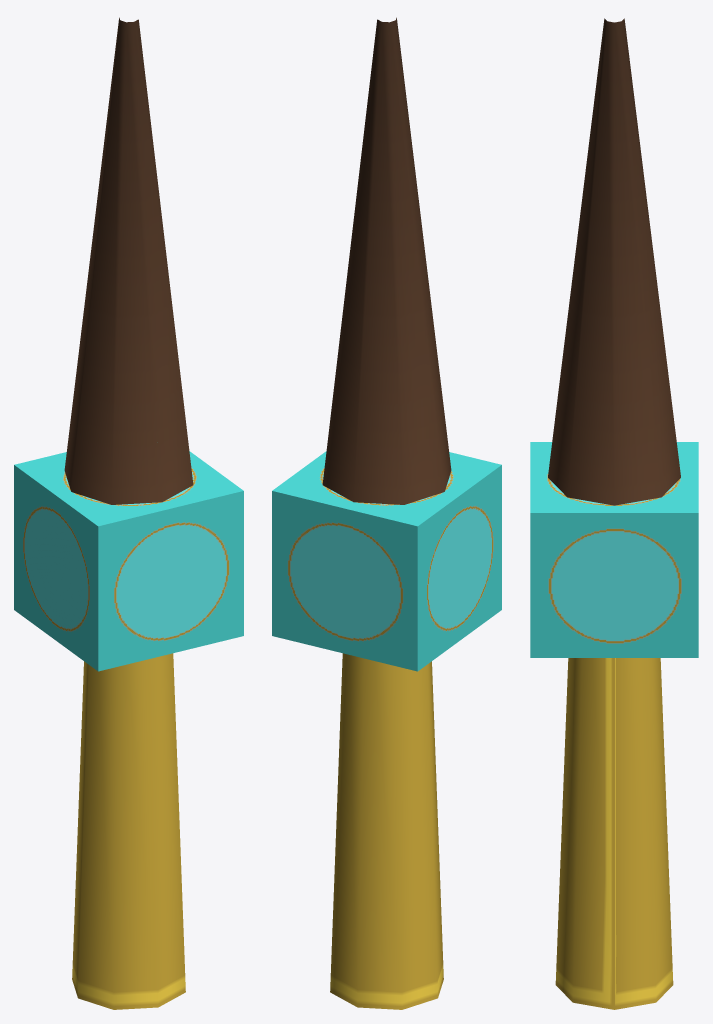
Rendered from weapon_astral_staff.glb.
3 views of the same model, side by side, from view 1: azimuth 30°, elevation 25°; view 2: azimuth 150°, elevation 25°; view 3: azimuth 270°, elevation 25° (orthographic).
Visible parts, largest first — view 1: weapon_astral_staff; view 2: weapon_astral_staff; view 3: weapon_astral_staff.
Boxes of the visible parts, bbox=[...] form: weapon_astral_staff: bbox=[14, 17, 243, 1009]; weapon_astral_staff: bbox=[272, 17, 501, 1009]; weapon_astral_staff: bbox=[530, 18, 698, 1009].
Bounding box in the file's own units: 0.26 × 1.65 × 0.26.
1 material, 1 textured.
